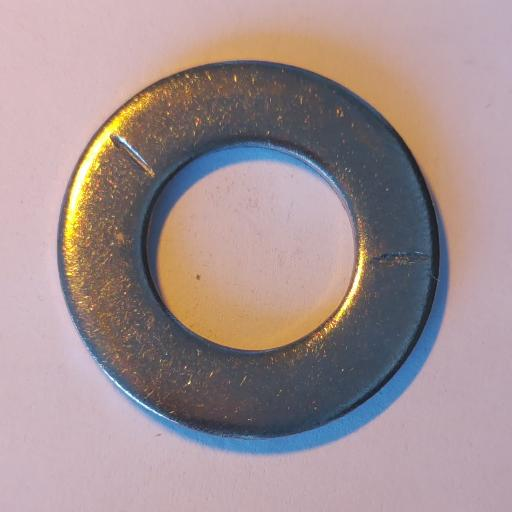scratch: (110, 133, 154, 178), (370, 251, 430, 267)
